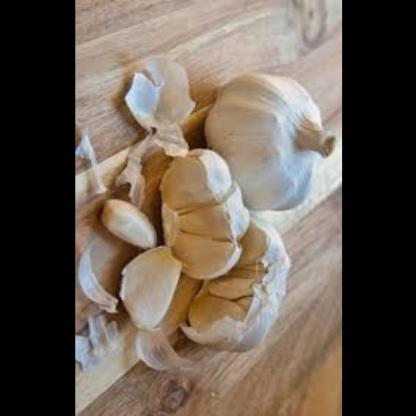garlic: (206, 61, 328, 228), (172, 220, 295, 353), (161, 139, 256, 285), (119, 240, 188, 336), (95, 194, 157, 253)
